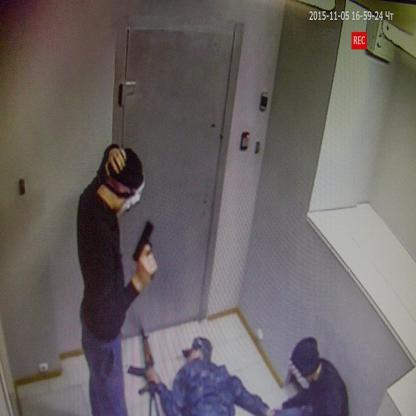al: (127, 323, 165, 415)
pistols: (130, 218, 160, 278)
